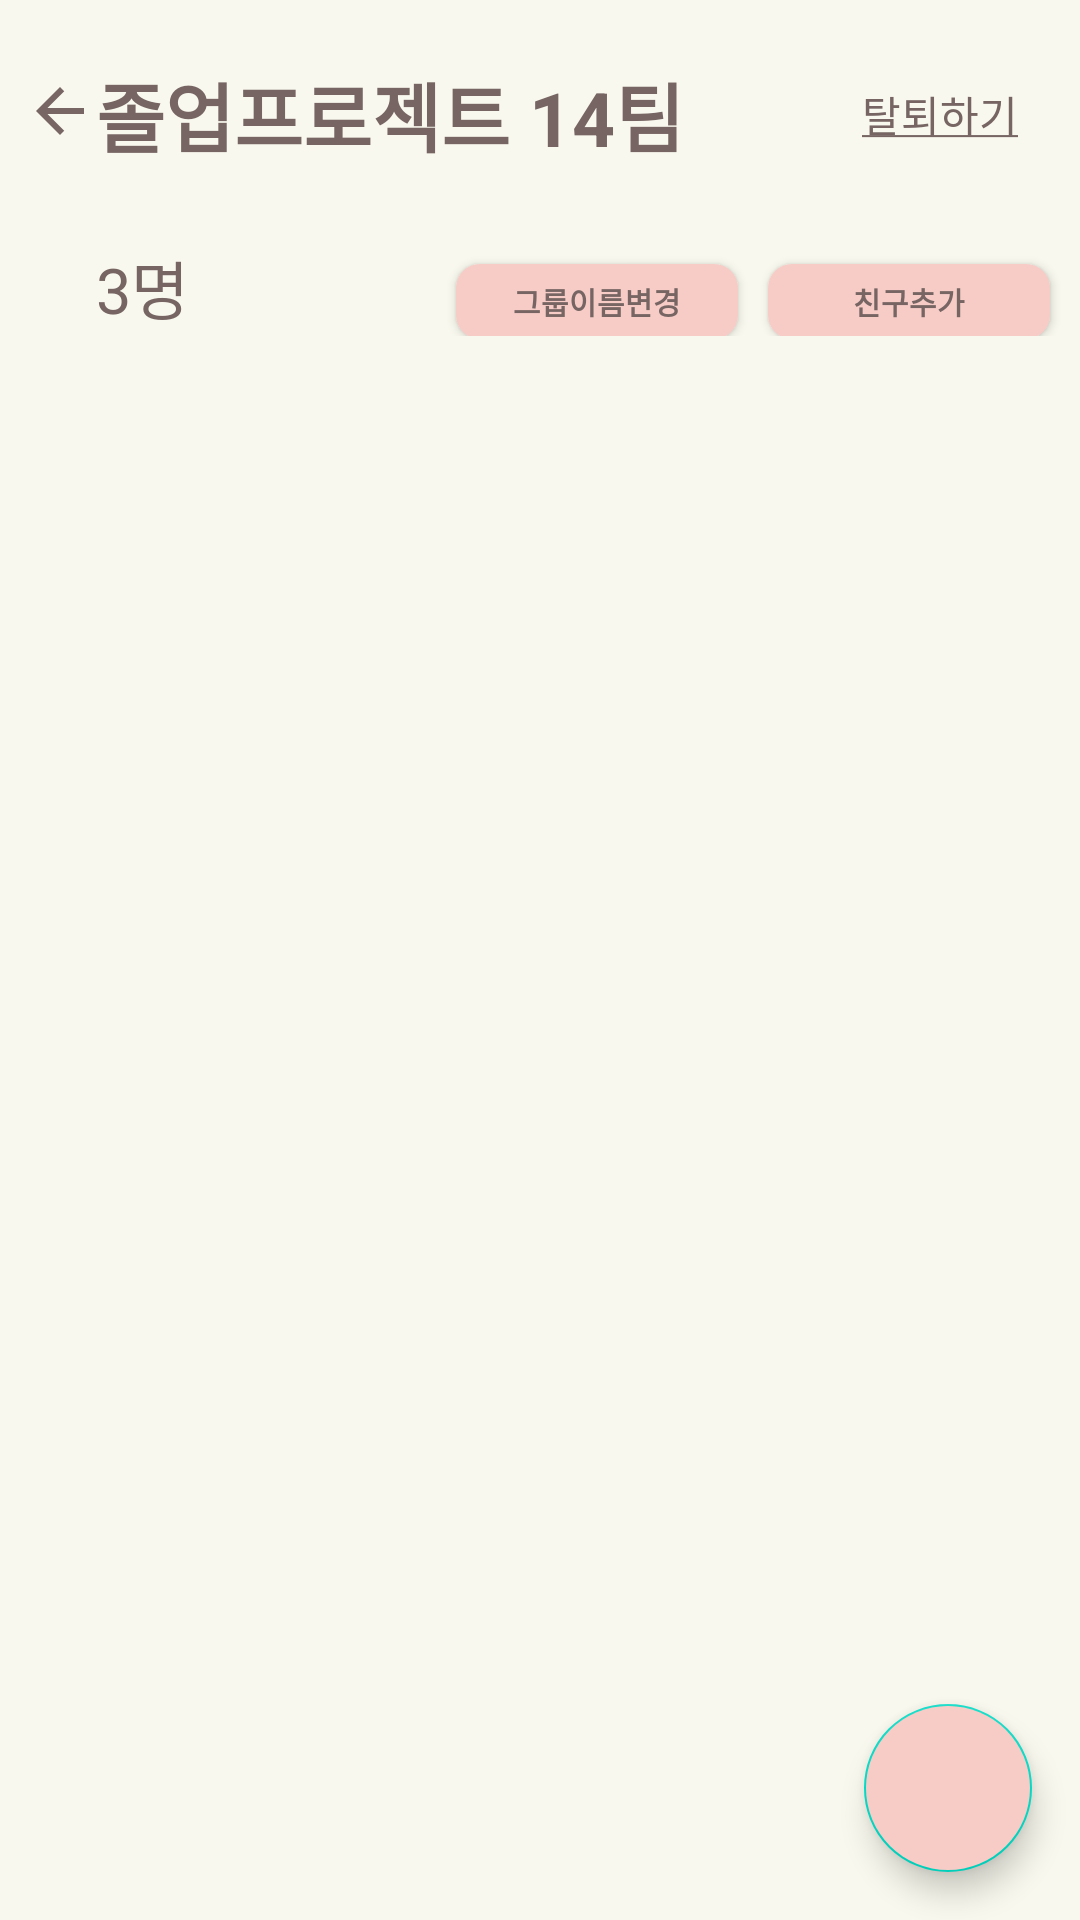

Icons on this 1080 × 1920 Android screen, each with the point to tap as [x,y]:
arrow back: [60,111]
